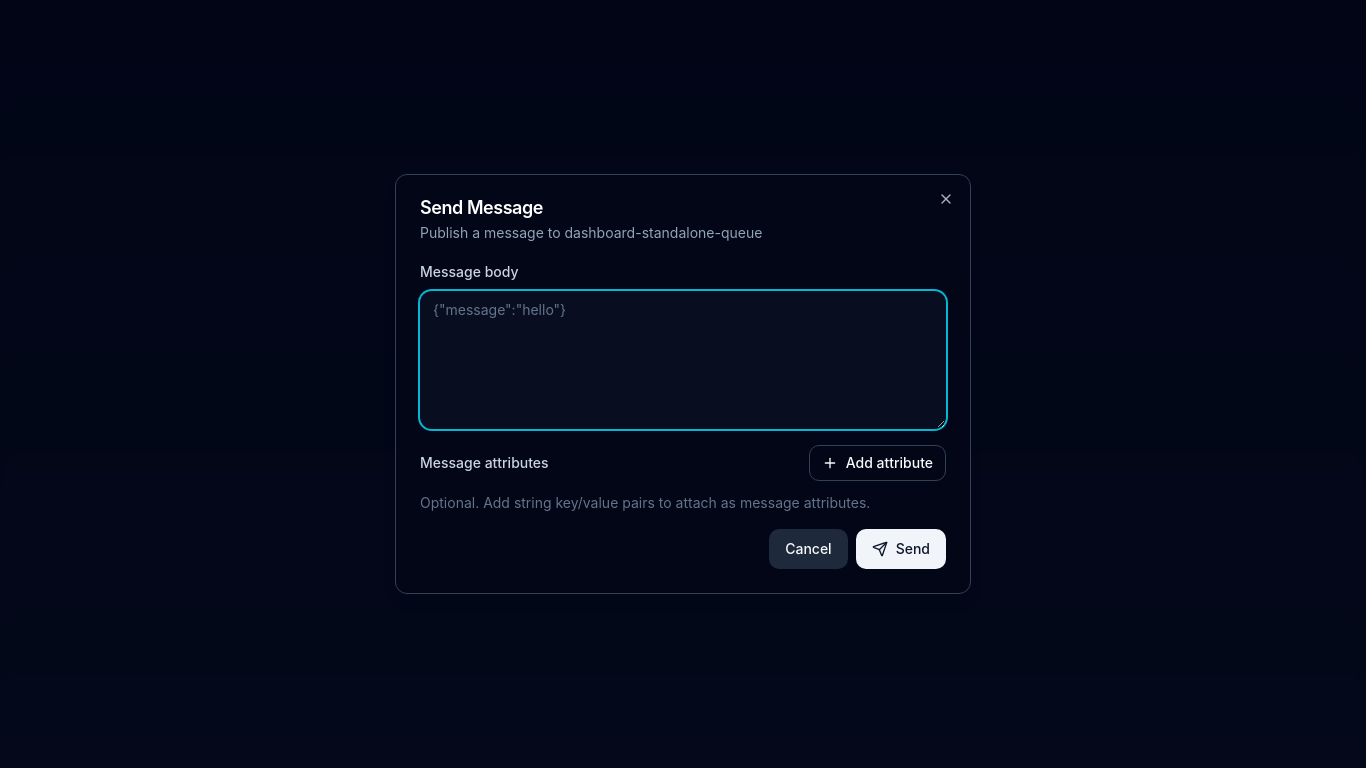
Scenario: SQS components › rejects duplicate attribute keys
The image size is (1366, 768).
Type "hello" into the text box labelled "Message body" at (683, 360), box [420,291,946,429]
Click the button "Add attribute" at (877, 463), box [809,445,946,481]
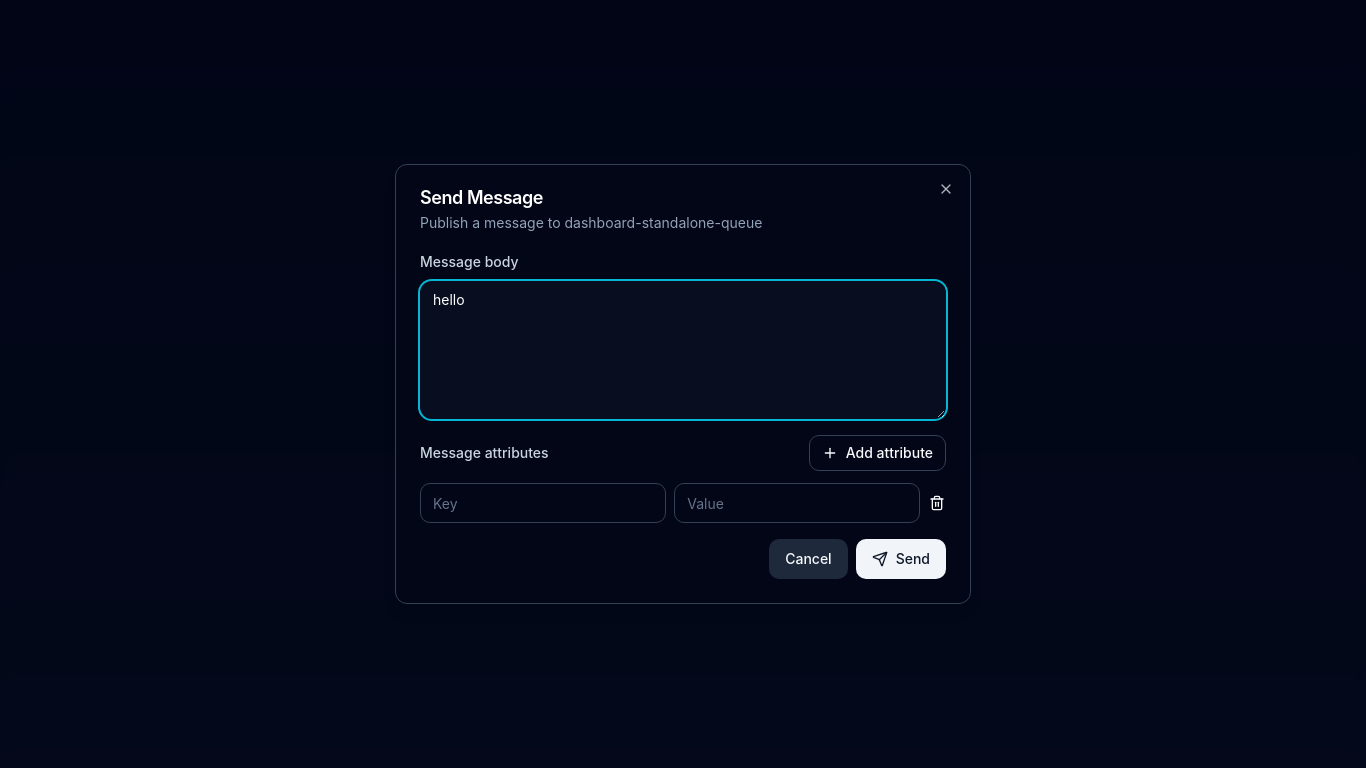
Click the button "Add attribute" at (877, 453), box [809,435,946,471]
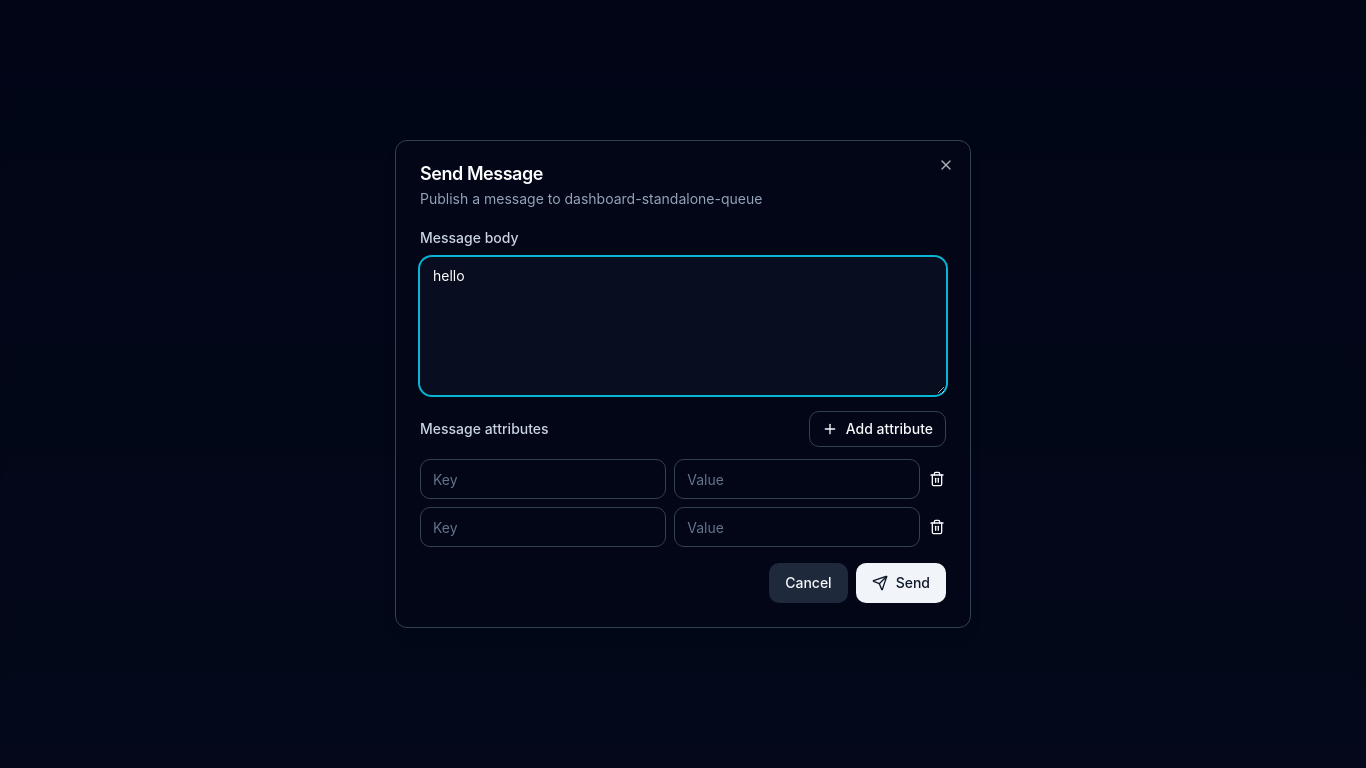
Type "source" into the field named "Attribute key" at (543, 479), box [420,459,666,499]
Type "dashboard" into the field named "Attribute value" at (797, 479), box [674,459,920,499]
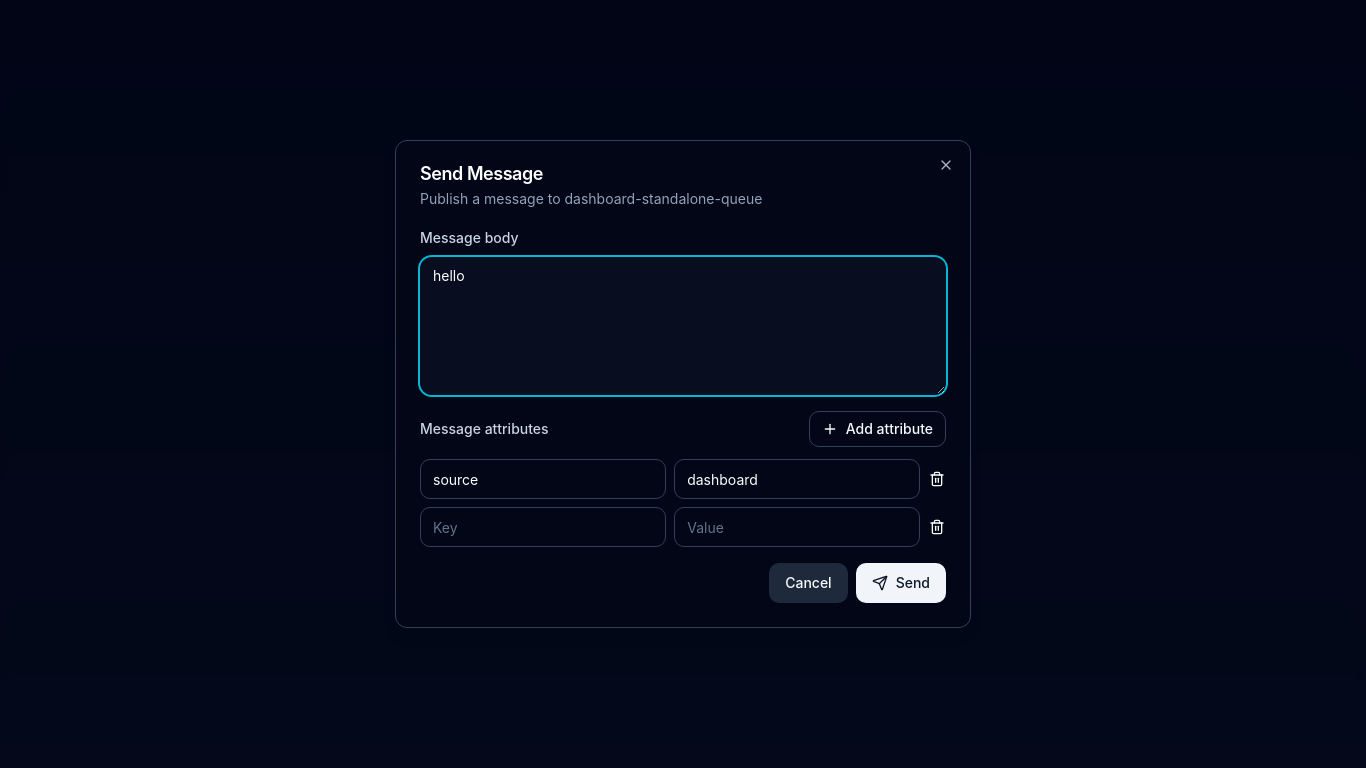
Type "source" into the field named "Attribute key" at (543, 527), box [420,507,666,547]
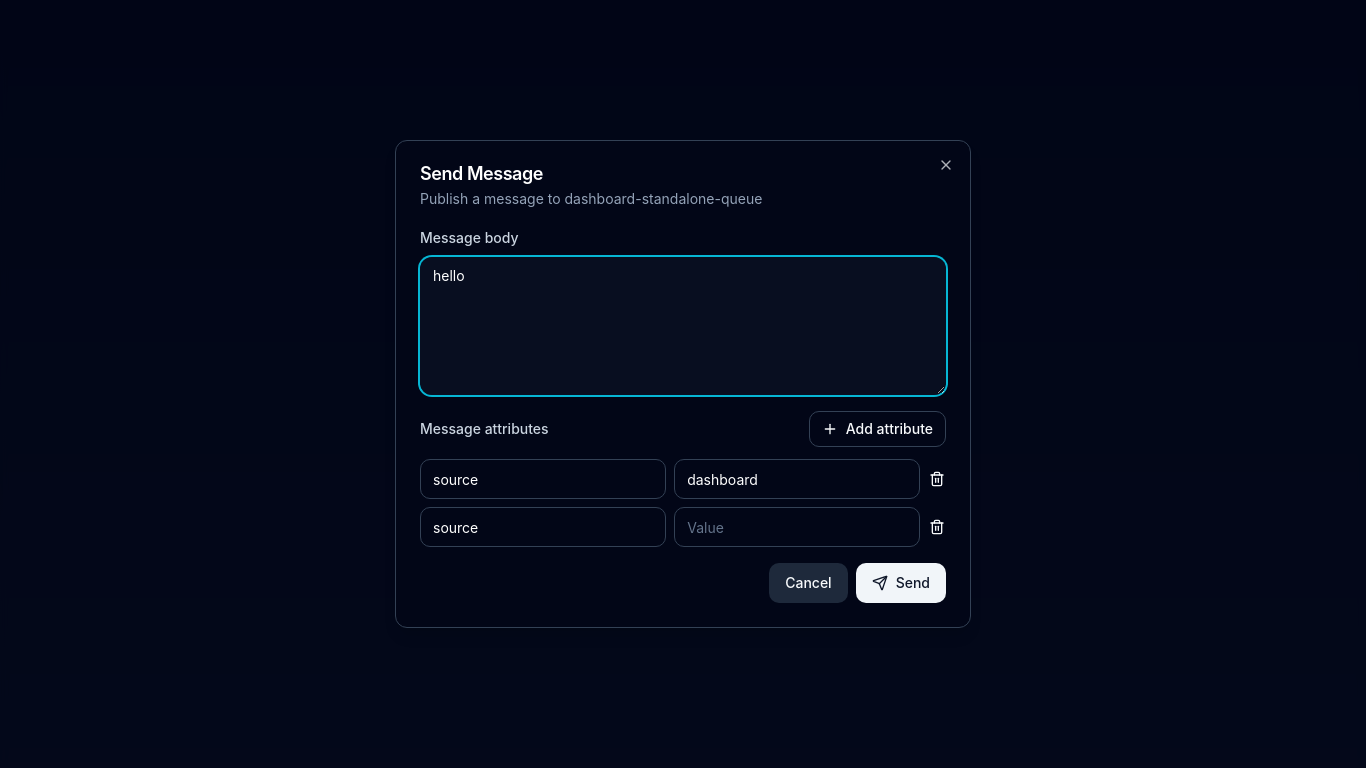
Type "other" into the field named "Attribute value" at (797, 527), box [674,507,920,547]
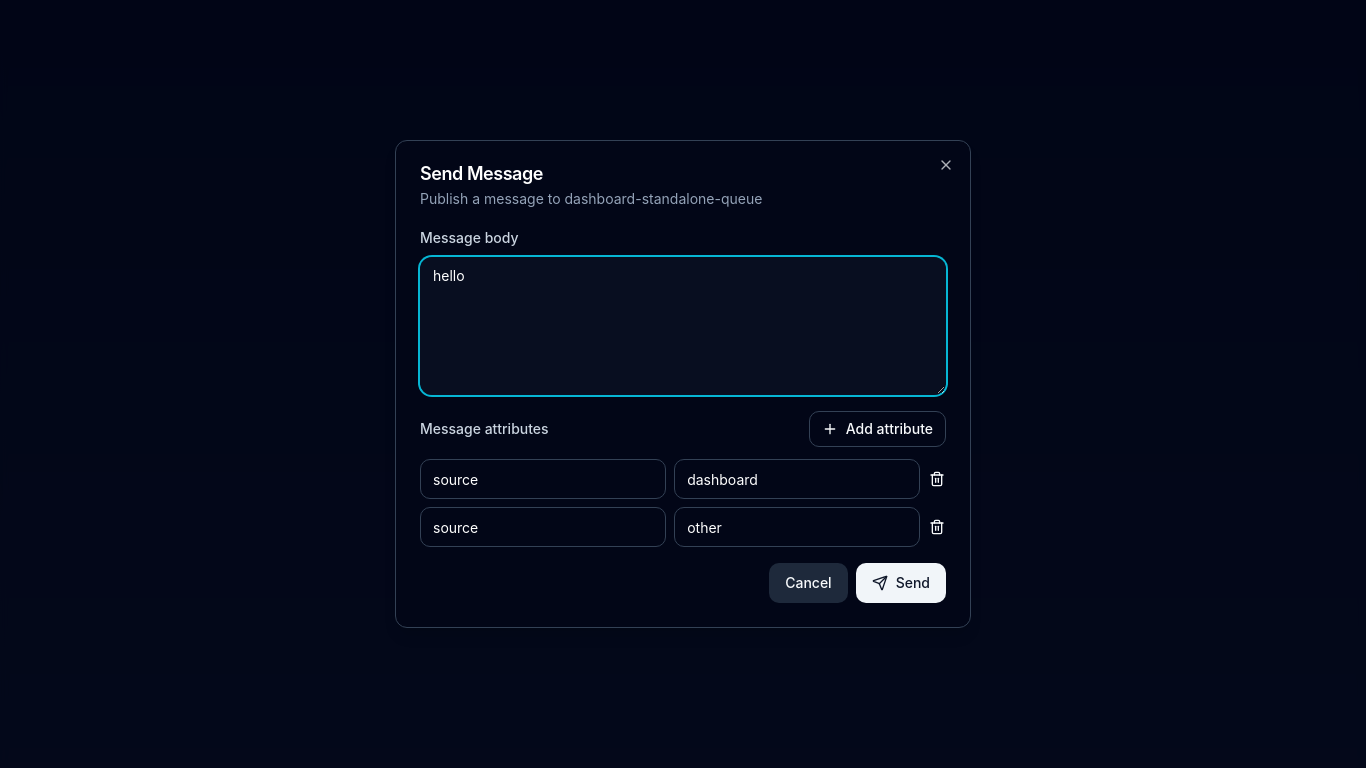
Click the button "Send" at (901, 583), box [856,563,946,603]
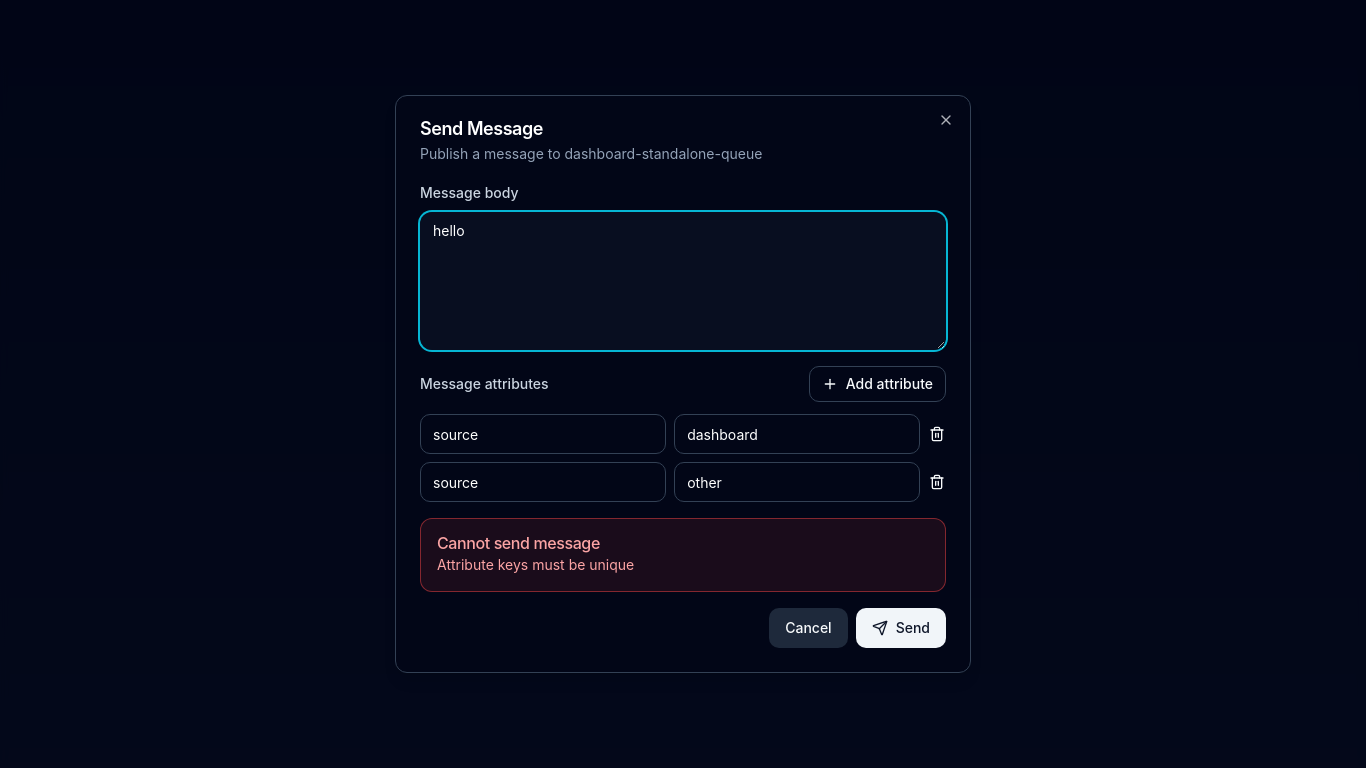
Now the text "Attribute keys must be unique" is shown, box [437,556,634,573]
